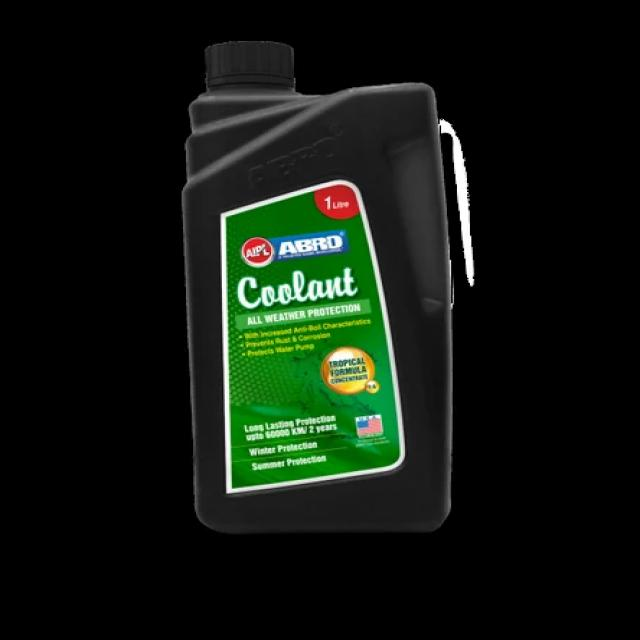coolant: (175, 32, 459, 539)
